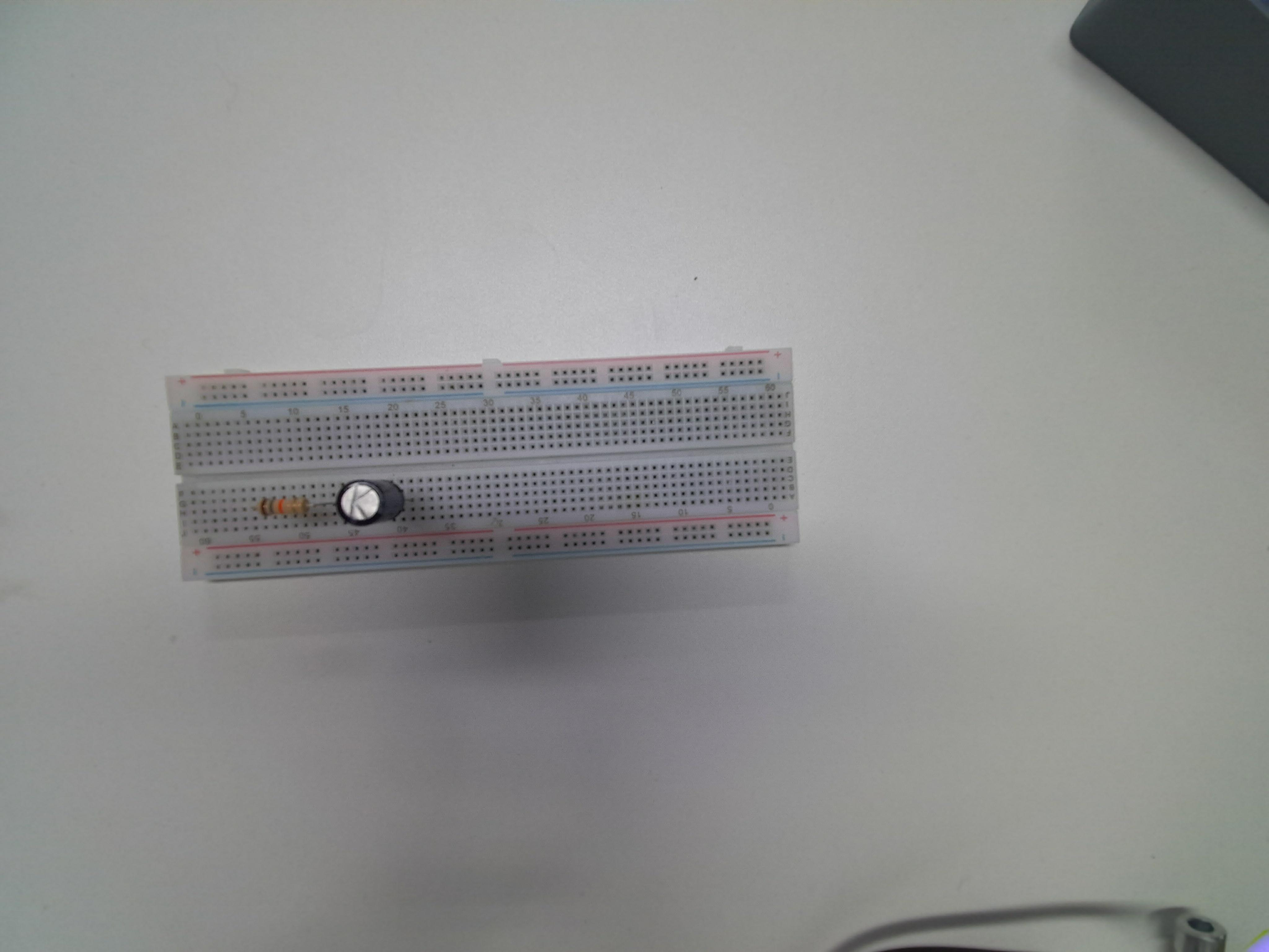base: (162, 351, 801, 587)
capacitor: (338, 479, 393, 525)
resistor-big: (259, 496, 310, 520)
